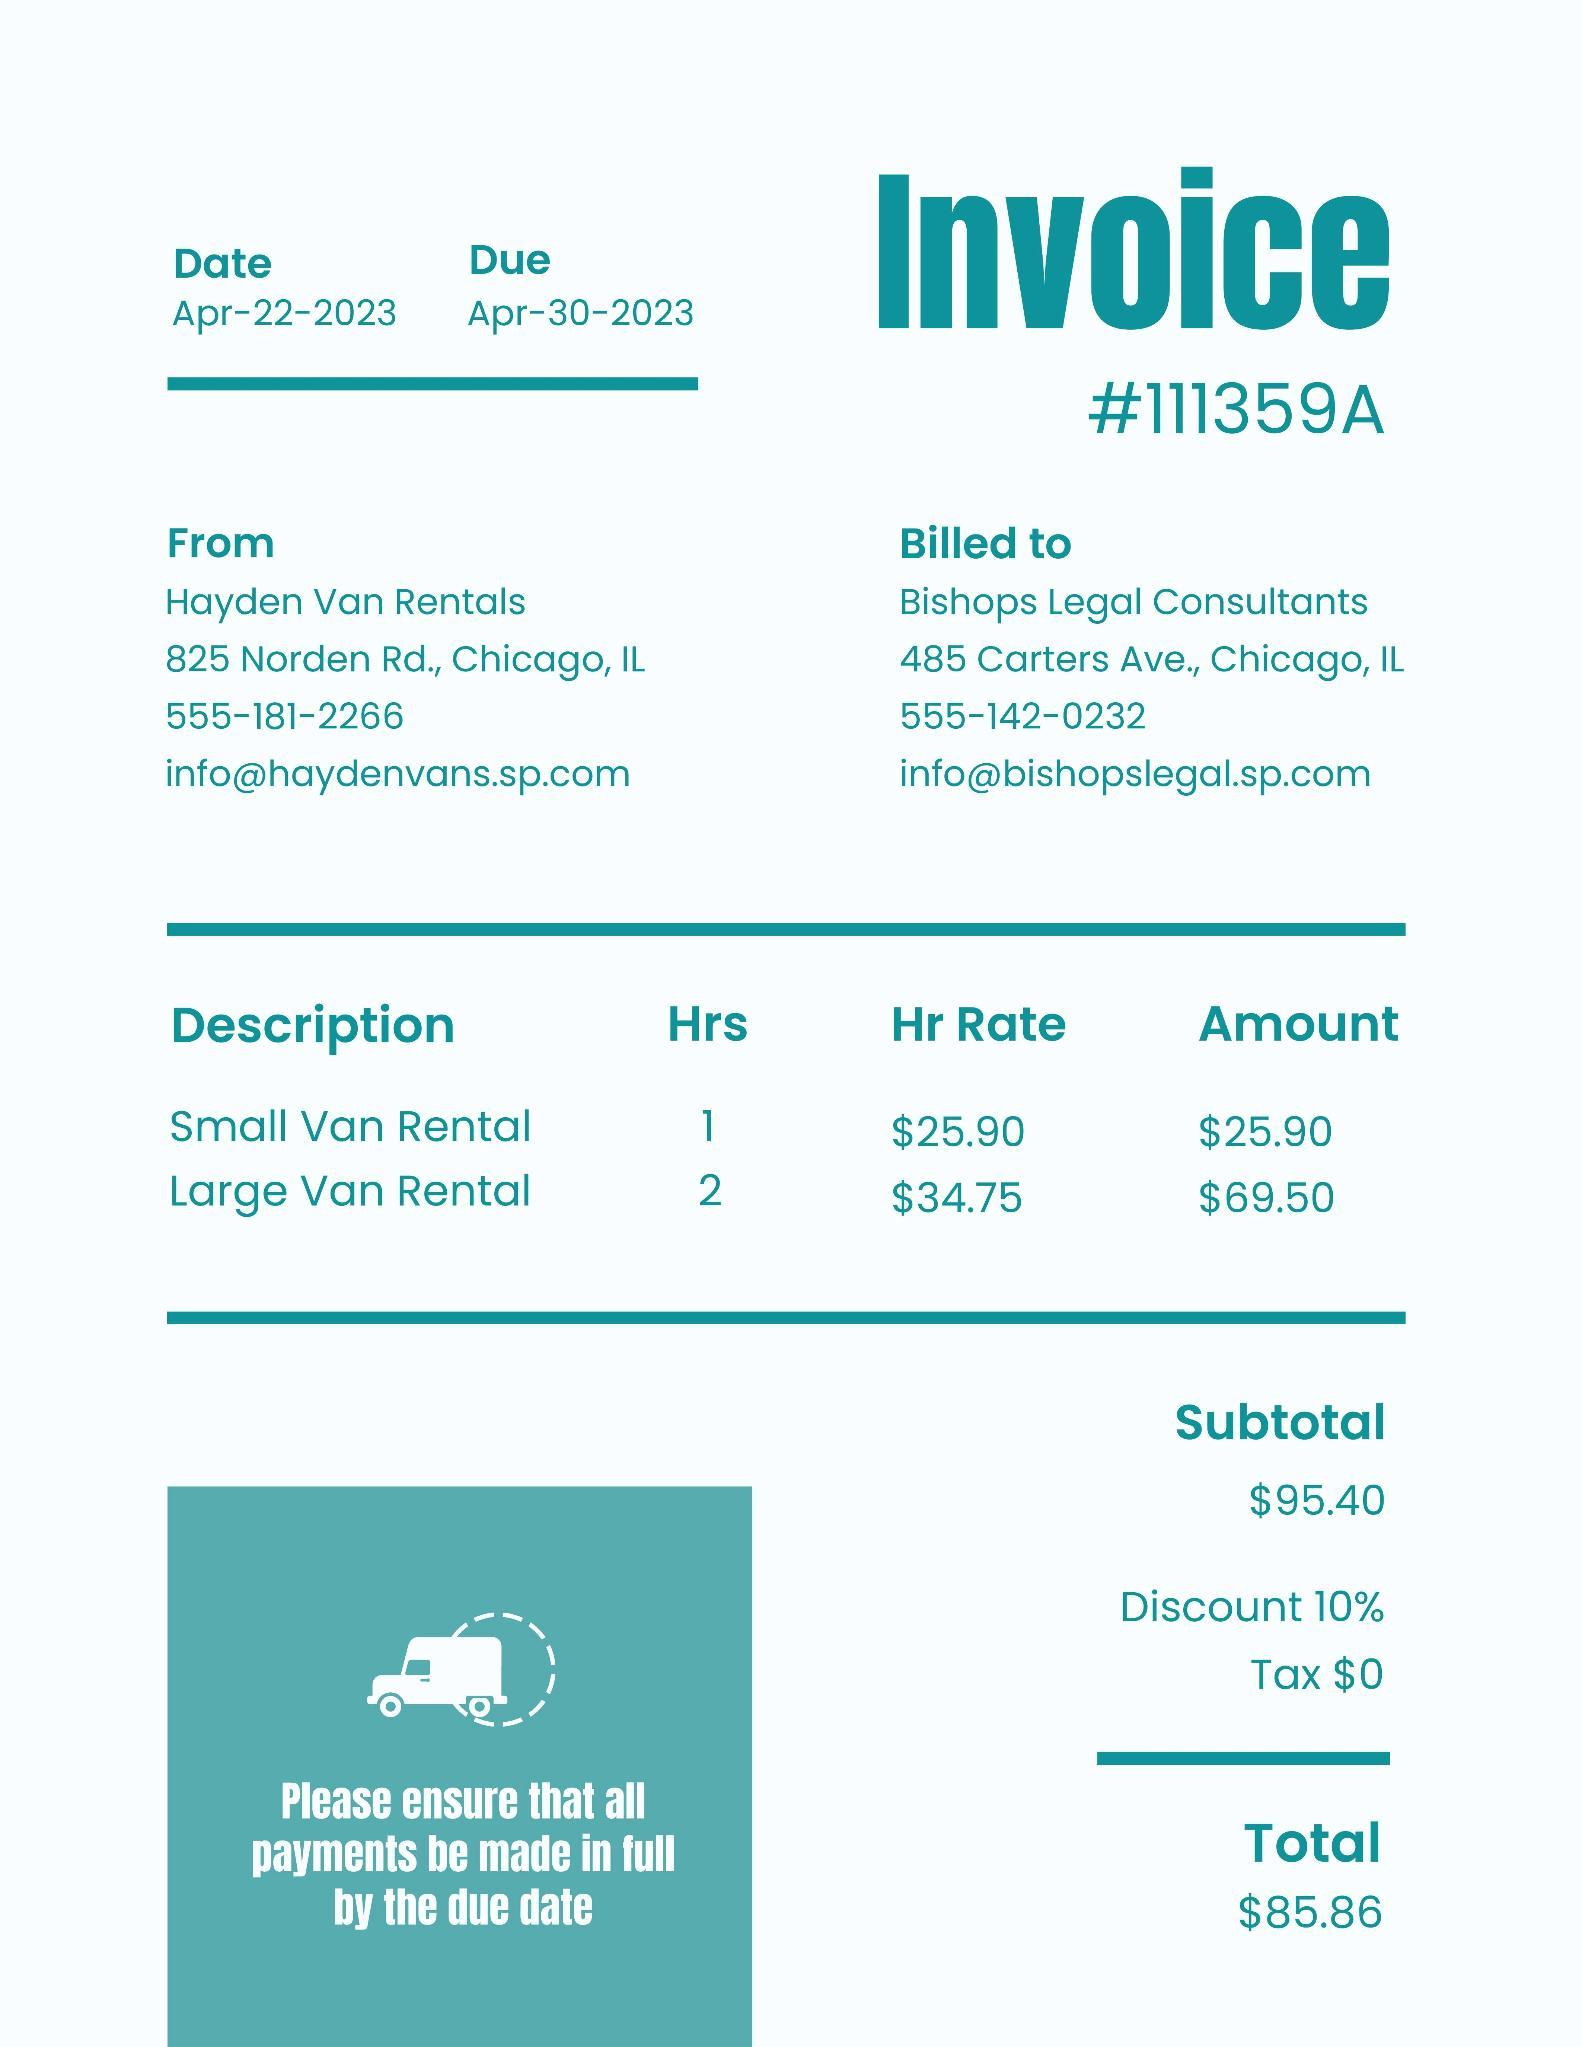ROI: (165, 917, 1412, 1308), (866, 523, 1447, 801), (131, 512, 663, 812), (1029, 1379, 1431, 1706), (857, 173, 1391, 351), (223, 1760, 693, 1951), (143, 229, 706, 366), (1077, 367, 1417, 455), (1205, 1811, 1403, 1962)
